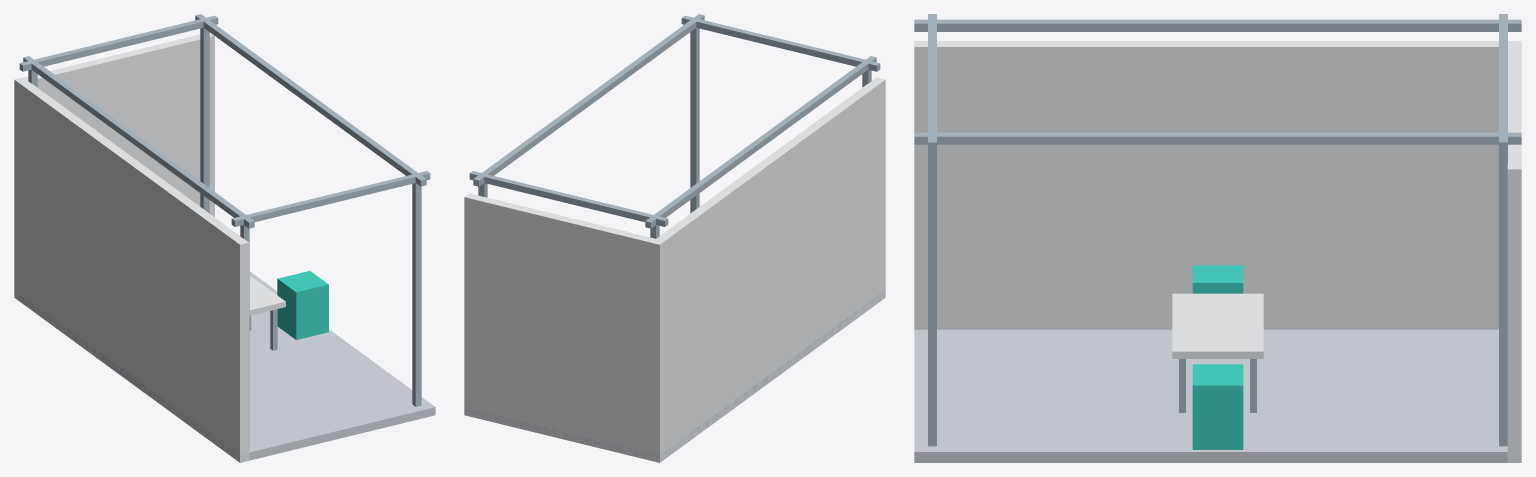
3 views of the same model, side by side, from view 1: azimuth 30°, elevation 25°; view 2: azimuth 150°, elevation 25°; view 3: azimuth 270°, elevation 25° (orthographic). The views are drawn at different scales.
Parts seen in each view (by area): view 1: Exhibition Booth Concept; view 2: Exhibition Booth Concept; view 3: Exhibition Booth Concept.
Part boxes in pixels (x1,y1,x2,y2): Exhibition Booth Concept: (14,14,435,462); Exhibition Booth Concept: (464,14,885,462); Exhibition Booth Concept: (914,14,1521,462).
Size of the model in its own units: 3 by 3.49 by 6.
